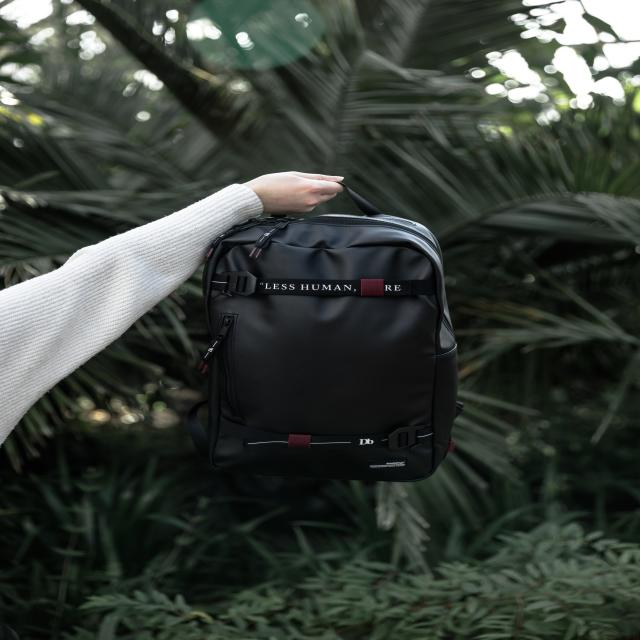backpack: (203, 181, 464, 483)
